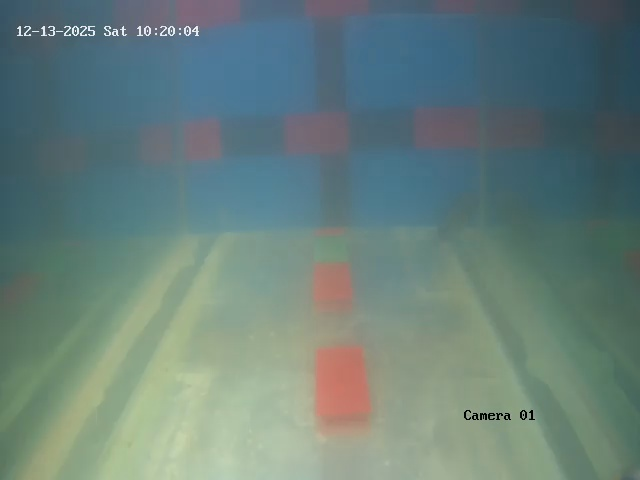fish: (434, 180, 484, 248)
